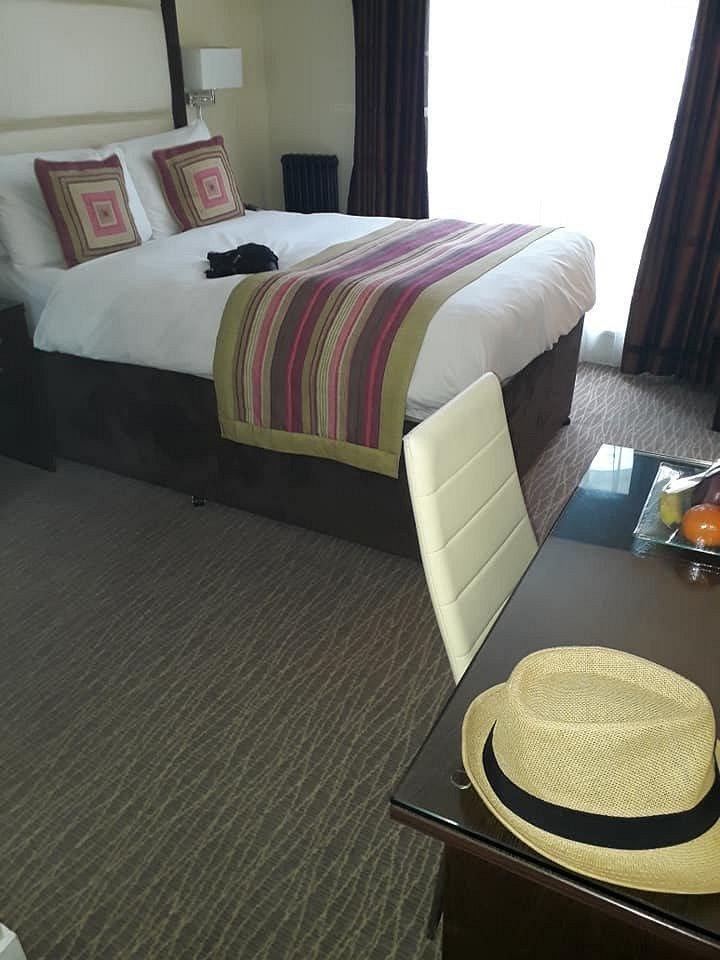chair: (399, 369, 546, 686)
clean_bed: (0, 90, 594, 533)
clean_floor: (0, 451, 453, 959)
organised_pillow: (0, 120, 257, 286)
